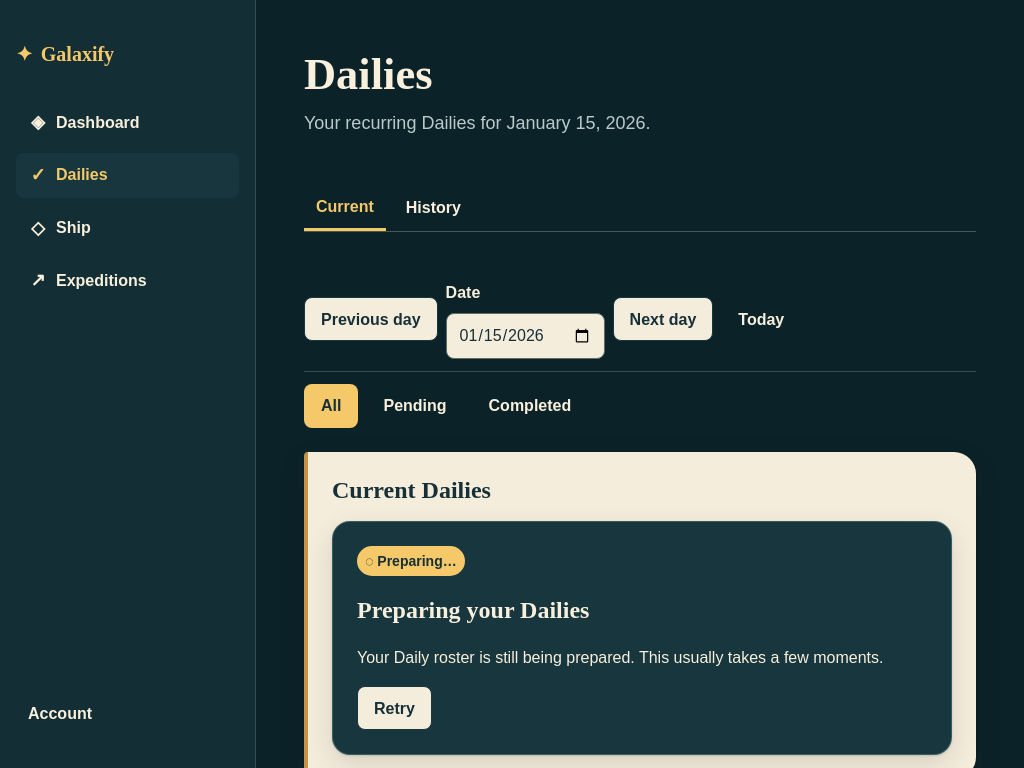
it: /dailies completion and Ship reconciliation › shows a preparing state for DAILY_PLAYER_NOT_READY with a working Retry
Check: the heading "Preparing your Dailies" is shown, box [357, 597, 590, 623]
Check: the text "Preparing…" is shown, box [377, 553, 457, 569]
Click the button "Retry": [394, 708] box [357, 686, 432, 730]
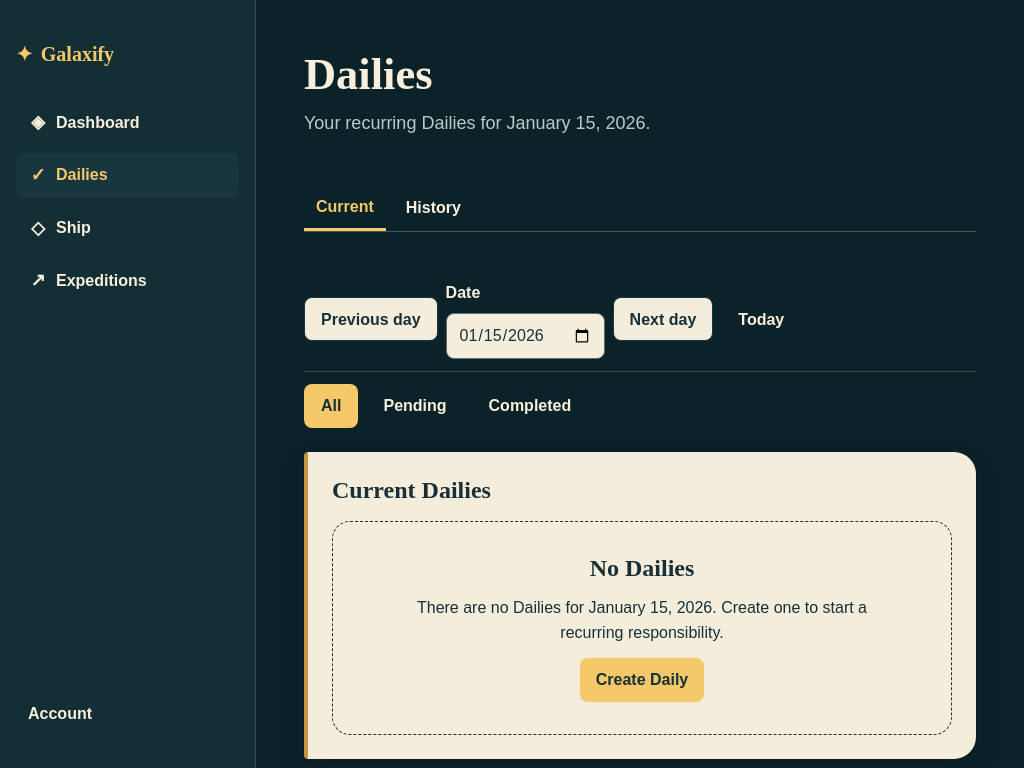
Check: the heading "No Dailies" is shown, box [590, 555, 694, 581]
